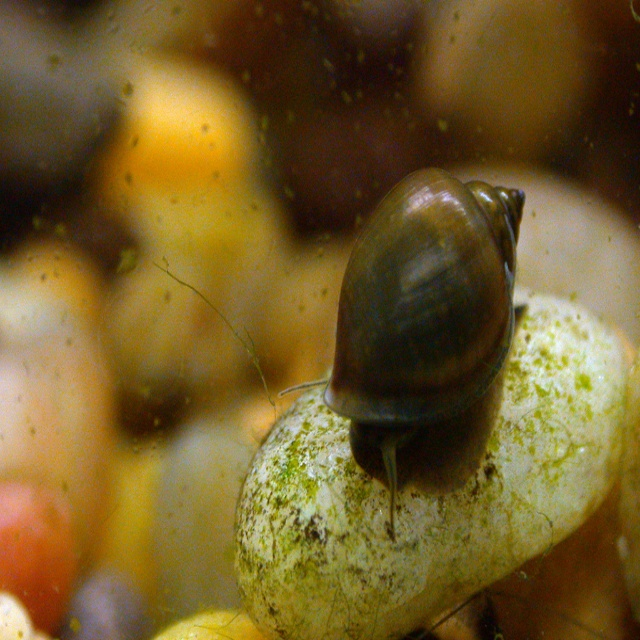Snail: (273, 164, 529, 541)
